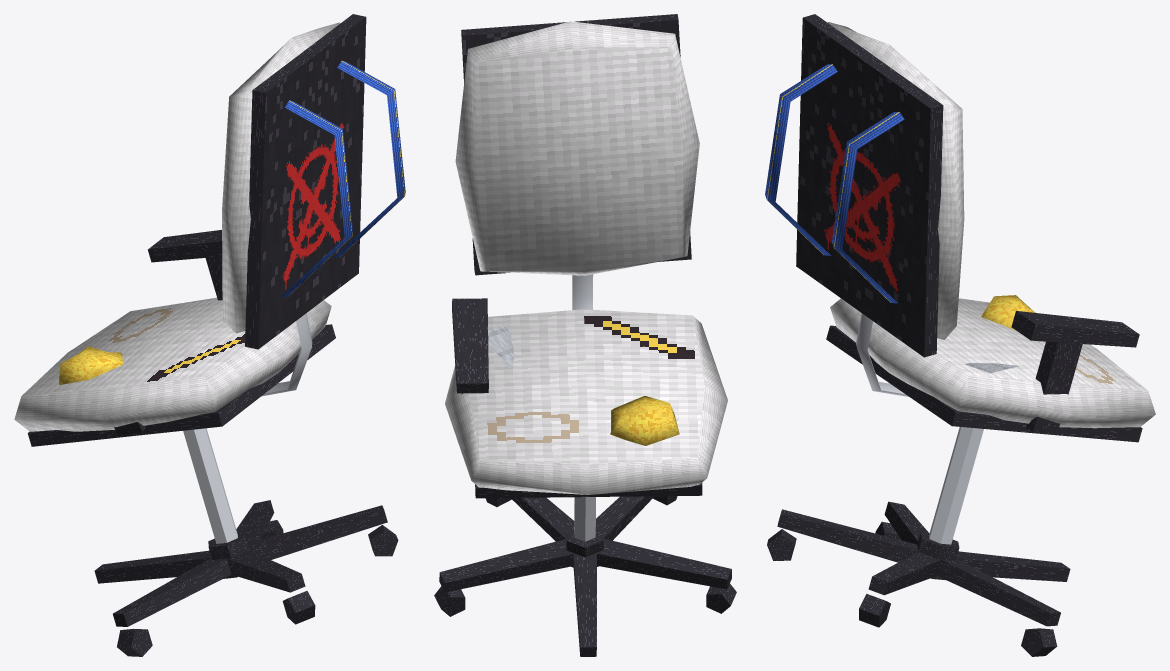
The model's file is s_officechair.glb.
3 views of the same model, side by side, from view 1: azimuth 30°, elevation 25°; view 2: azimuth 150°, elevation 25°; view 3: azimuth 270°, elevation 25° (orthographic). The views are drawn at different scales.
Parts seen in each view (by area): view 1: s_officechair_mesh; view 2: s_officechair_mesh; view 3: s_officechair_mesh.
Part boxes in pixels (box(x1,y1,x2,y2)): s_officechair_mesh: box(14, 14, 405, 656); s_officechair_mesh: box(434, 14, 736, 656); s_officechair_mesh: box(765, 14, 1155, 656).
Size of what is drawn, in the model's own units: 0.7204 by 1.29 by 0.7803.
4 materials, 4 textured.
